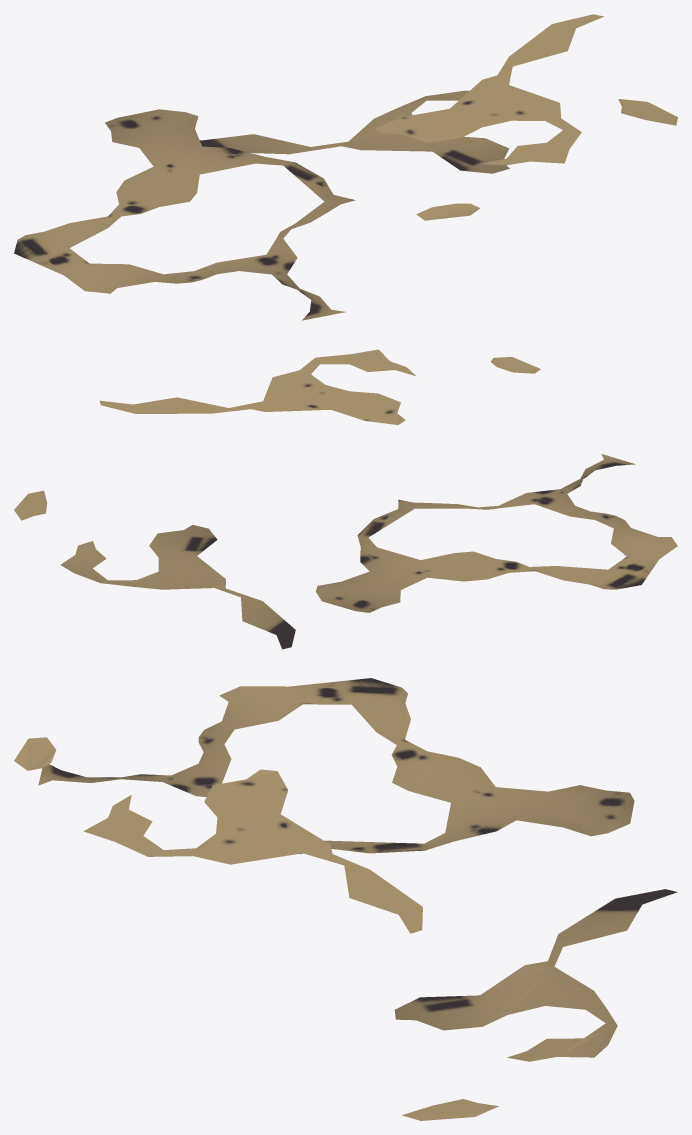
Rendered from Ground_05.FBX.
3 views of the same model, one above another, from view 1: azimuth 30°, elevation 25°; view 2: azimuth 150°, elevation 25°; view 3: azimuth 270°, elevation 25° (orthographic). The views are drawn at different scales.
Parts seen in each view (by area): view 1: Ground_05; view 2: Ground_05; view 3: Ground_05.
Part boxes in pixels (x1=…): Ground_05: x1=14, y1=14, x2=677, y2=320; Ground_05: x1=14, y1=349, x2=677, y2=649; Ground_05: x1=14, y1=678, x2=677, y2=1120.
Bounding box in the file's own units: 40.64 × 7.04 × 29.33.
